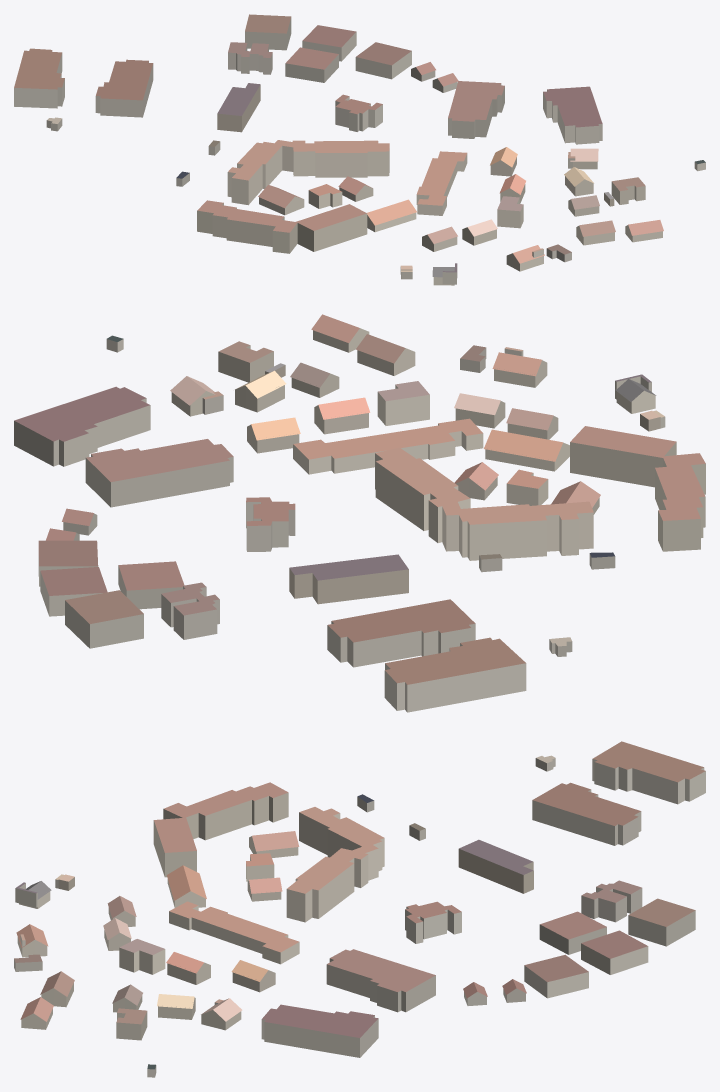
The picture shows the model from 3 angles, top to bottom: view 1: azimuth 30°, elevation 25°; view 2: azimuth 150°, elevation 25°; view 3: azimuth 270°, elevation 25°; orthographic projection. The views are drawn at different scales.
Parts seen in each view (by area): view 1: tuile; view 2: tuile; view 3: tuile.
Part boxes in pixels (left/top/right/bottom): tuile: left=14, top=14, right=705, bottom=285; tuile: left=14, top=314, right=705, bottom=712; tuile: left=14, top=741, right=705, bottom=1077.
Bounding box in the file's own units: 243 × 26.72 × 257.
